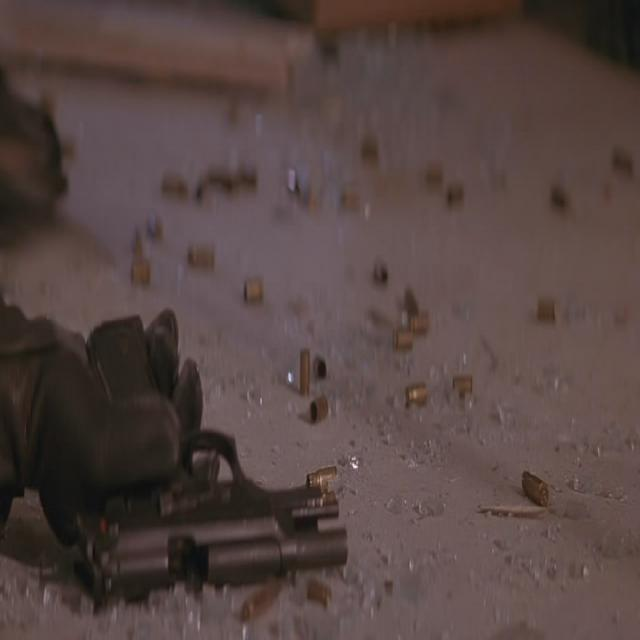gun-knife-thesis - v11 Yolov5 augmented: (87, 293, 356, 620)
